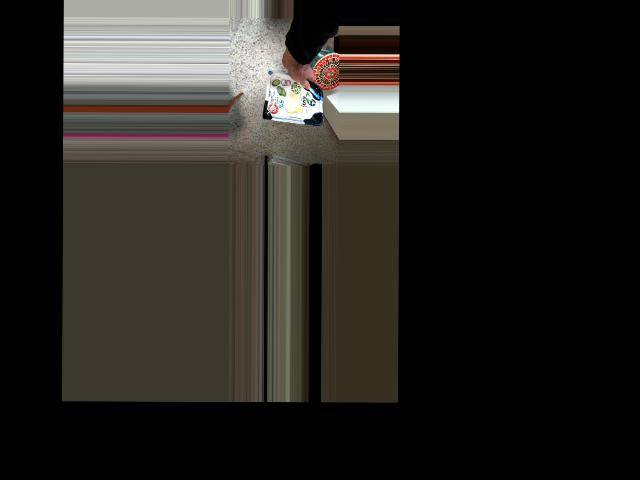cheese: (263, 61, 315, 108)
